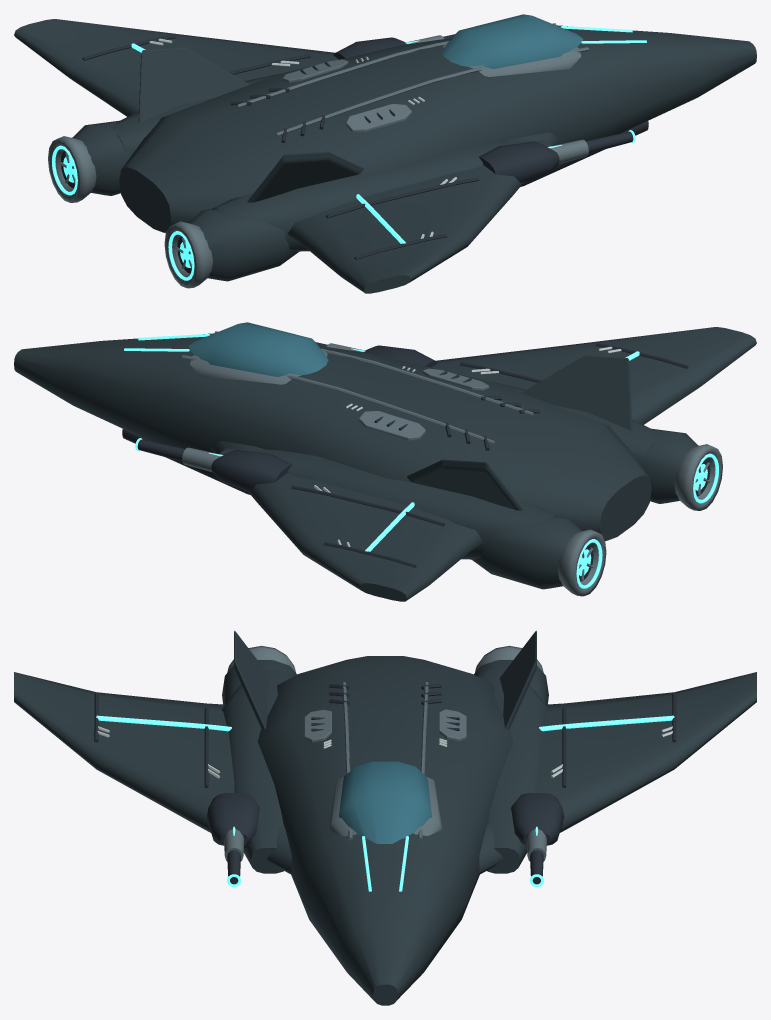
Rendered from vanguard.glb.
3 views of the same model, one above another, from view 1: azimuth 30°, elevation 25°; view 2: azimuth 150°, elevation 25°; view 3: azimuth 270°, elevation 25° (orthographic). The views are drawn at different scales.
Parts seen in each view (by area): view 1: hull Hull paint, wing Hull paint, hull Smoked canopy, hull Brushed panel alloy, engine Brushed panel alloy, mount Graphite heat armour, wing Graphite heat armour, engine Hull guidance, hull Graphite heat armour, mount Brushed panel alloy; view 2: hull Hull paint, wing Hull paint, hull Smoked canopy, hull Brushed panel alloy, engine Brushed panel alloy, mount Graphite heat armour, wing Graphite heat armour, engine Hull guidance, hull Graphite heat armour, mount Brushed panel alloy; view 3: hull Hull paint, wing Hull paint, hull Smoked canopy, mount Graphite heat armour, hull Brushed panel alloy, wing Hull guidance, wing Graphite heat armour, engine Brushed panel alloy, mount Brushed panel alloy, hull Graphite heat armour.
Part boxes in pixels (x1,y1,x2,y2): hull Hull paint: (72, 25, 756, 281); wing Hull paint: (14, 19, 559, 293); hull Smoked canopy: (442, 14, 583, 68); hull Brushed panel alloy: (237, 23, 588, 136); engine Brushed panel alloy: (48, 136, 212, 288); mount Graphite heat armour: (333, 34, 633, 182); wing Graphite heat armour: (82, 35, 479, 259); engine Hull guidance: (52, 145, 194, 280); hull Graphite heat armour: (230, 61, 648, 186); mount Brushed panel alloy: (406, 35, 588, 163); hull Hull paint: (14, 333, 698, 589); wing Hull paint: (211, 327, 756, 601); hull Smoked canopy: (188, 322, 328, 376); hull Brushed panel alloy: (182, 331, 533, 444); engine Brushed panel alloy: (558, 444, 722, 596); mount Graphite heat armour: (137, 342, 437, 490); wing Graphite heat armour: (291, 343, 688, 567); engine Hull guidance: (576, 453, 718, 588); hull Graphite heat armour: (122, 371, 540, 494); mount Brushed panel alloy: (182, 343, 364, 471); hull Hull paint: (222, 630, 548, 1005); wing Hull paint: (14, 672, 756, 874); hull Smoked canopy: (339, 761, 431, 843); mount Graphite heat armour: (206, 793, 564, 884); hull Brushed panel alloy: (304, 682, 466, 840); wing Hull guidance: (96, 715, 674, 731); wing Graphite heat armour: (94, 693, 676, 787); engine Brushed panel alloy: (227, 645, 543, 672); mount Brushed panel alloy: (224, 829, 546, 861); hull Graphite heat armour: (311, 683, 459, 731).
Size of the model in its own units: 56.02 by 12.47 by 54.
